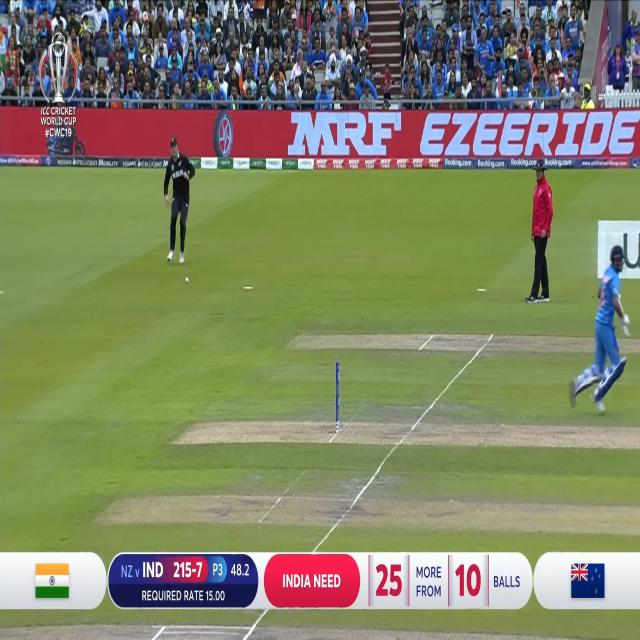ball: (182, 269, 194, 291)
